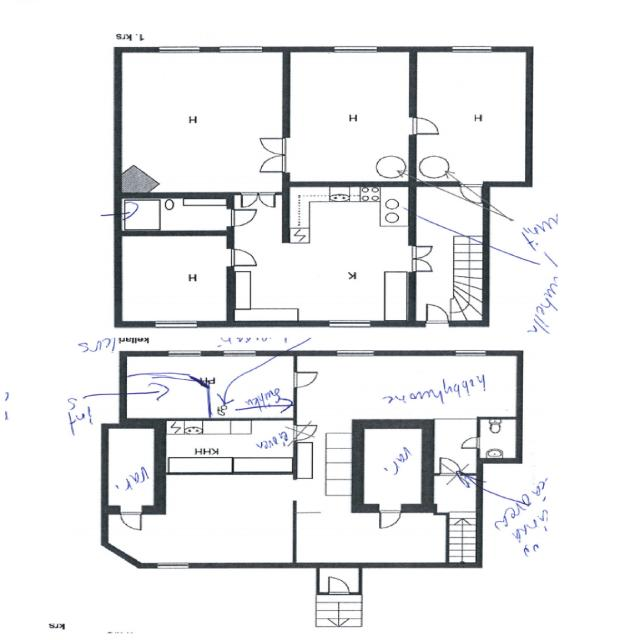door: (191, 364, 224, 388), (409, 247, 444, 268), (327, 544, 352, 568), (379, 504, 401, 530), (260, 137, 291, 155), (409, 117, 440, 135), (227, 248, 258, 266), (120, 506, 142, 530), (260, 155, 291, 172), (227, 209, 257, 226), (417, 321, 438, 343), (460, 181, 481, 203), (438, 321, 458, 343), (293, 372, 318, 388), (258, 192, 276, 208), (241, 192, 258, 208), (461, 438, 480, 448)
